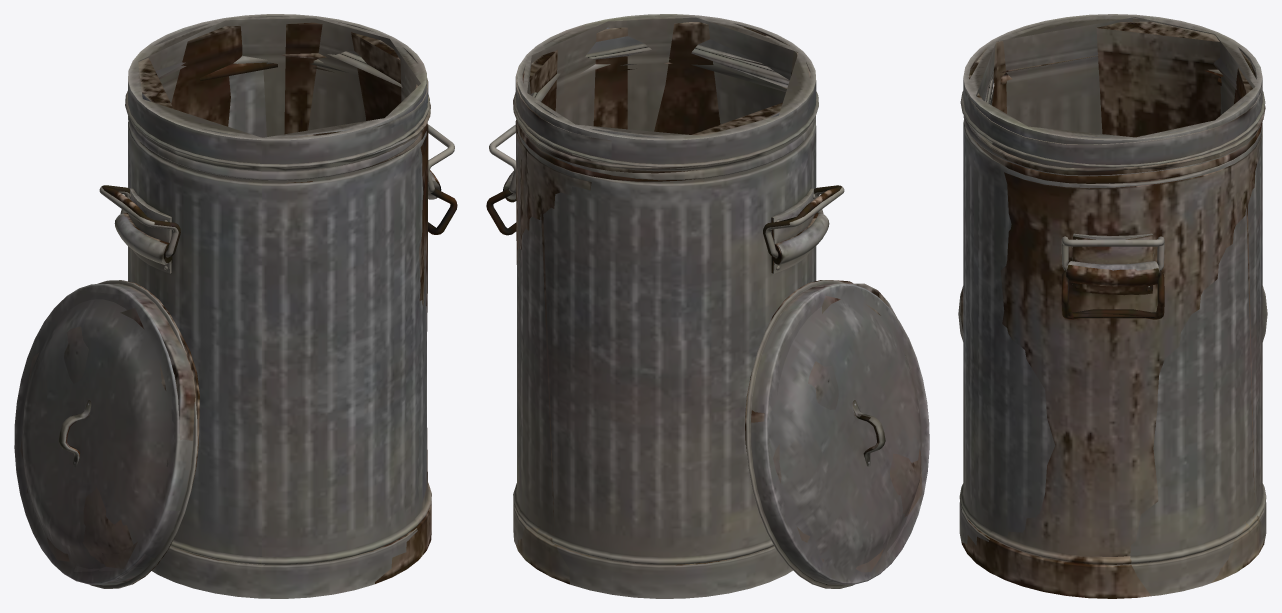
The model's file is metal_trash_can.glb.
3 renders of one model, left to right at view 1: azimuth 30°, elevation 25°; view 2: azimuth 150°, elevation 25°; view 3: azimuth 270°, elevation 25°, orthographic.
Parts seen in each view (by area): view 1: metal_trash_can_handle_left, metal_trash_can_handle_left_lo, metal_trash_can_rust_lo, metal_trash_can_rust_handle_left, metal_trash_can_rust, metal_trash_can_rust_handle_left_lo; view 2: metal_trash_can_handle_left, metal_trash_can_handle_left_lo, metal_trash_can_rust_lo, metal_trash_can_rust, metal_trash_can_rust_handle_left, metal_trash_can_rust_handle_left_lo; view 3: metal_trash_can_rust, metal_trash_can_handle_left, metal_trash_can_rust_lo, metal_trash_can_handle_left_lo, metal_trash_can_rust_handle_left, metal_trash_can_rust_handle_left_lo.
Part boxes in pixels (x1,y1,x2,y2): metal_trash_can_handle_left: [14, 14, 454, 598]; metal_trash_can_handle_left_lo: [61, 16, 430, 571]; metal_trash_can_rust_lo: [138, 22, 417, 137]; metal_trash_can_rust_handle_left: [26, 185, 457, 586]; metal_trash_can_rust: [123, 61, 441, 583]; metal_trash_can_rust_handle_left_lo: [20, 187, 439, 568]; metal_trash_can_handle_left: [489, 14, 929, 598]; metal_trash_can_handle_left_lo: [523, 14, 924, 558]; metal_trash_can_rust_lo: [521, 22, 797, 535]; metal_trash_can_rust: [503, 25, 818, 584]; metal_trash_can_rust_handle_left: [486, 185, 921, 562]; metal_trash_can_rust_handle_left_lo: [509, 217, 922, 572]; metal_trash_can_rust: [962, 18, 1265, 598]; metal_trash_can_handle_left: [958, 14, 1267, 596]; metal_trash_can_rust_lo: [969, 21, 1254, 512]; metal_trash_can_handle_left_lo: [965, 15, 1260, 259]; metal_trash_can_rust_handle_left: [960, 269, 1164, 332]; metal_trash_can_rust_handle_left_lo: [1068, 302, 1158, 318].
Bounding box in the file's own units: 0.778 × 0.9062 × 0.5563.
2 materials, 2 textured.
